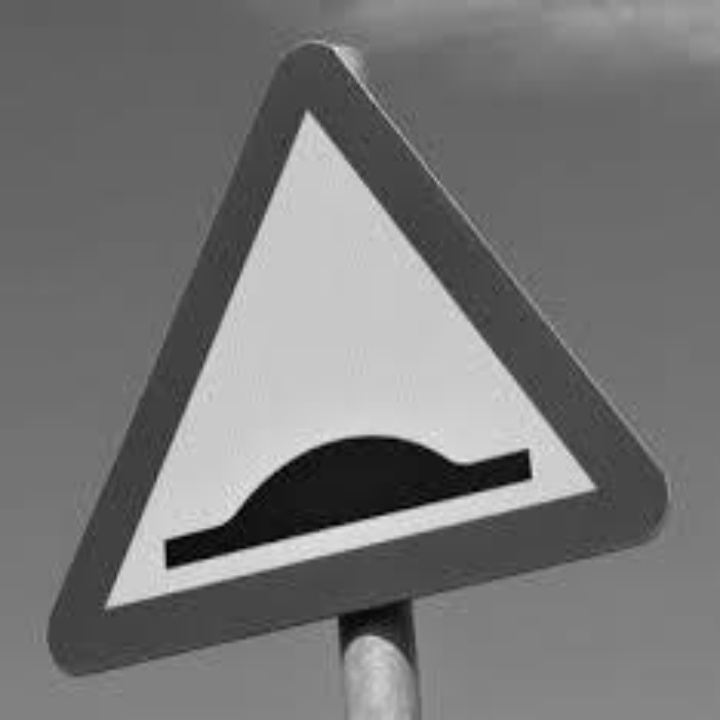bump: (113, 407, 569, 600)
